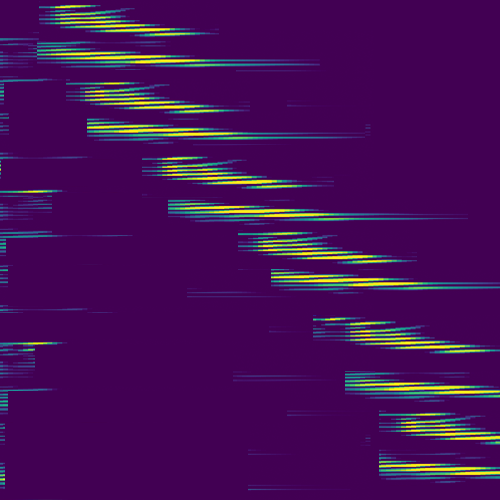semblance: (317, 315, 492, 357), (254, 228, 407, 266), (81, 76, 223, 116), (49, 3, 204, 38), (159, 153, 301, 191), (269, 267, 435, 294), (378, 409, 500, 444), (175, 200, 348, 224), (346, 376, 500, 401), (37, 45, 215, 65), (85, 119, 240, 139), (377, 457, 500, 479)
